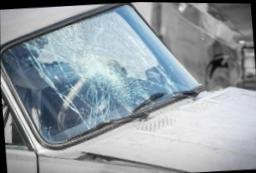Bumper: (0, 6, 199, 142)
